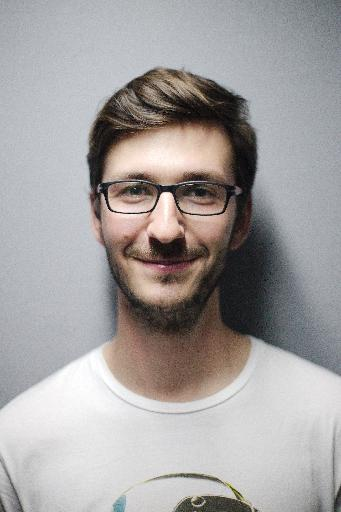left_eye: (183, 187, 217, 201)
left_lip_corner: (196, 251, 208, 264)
right_eye: (119, 185, 152, 200)
right_lip_corner: (126, 251, 144, 268)
